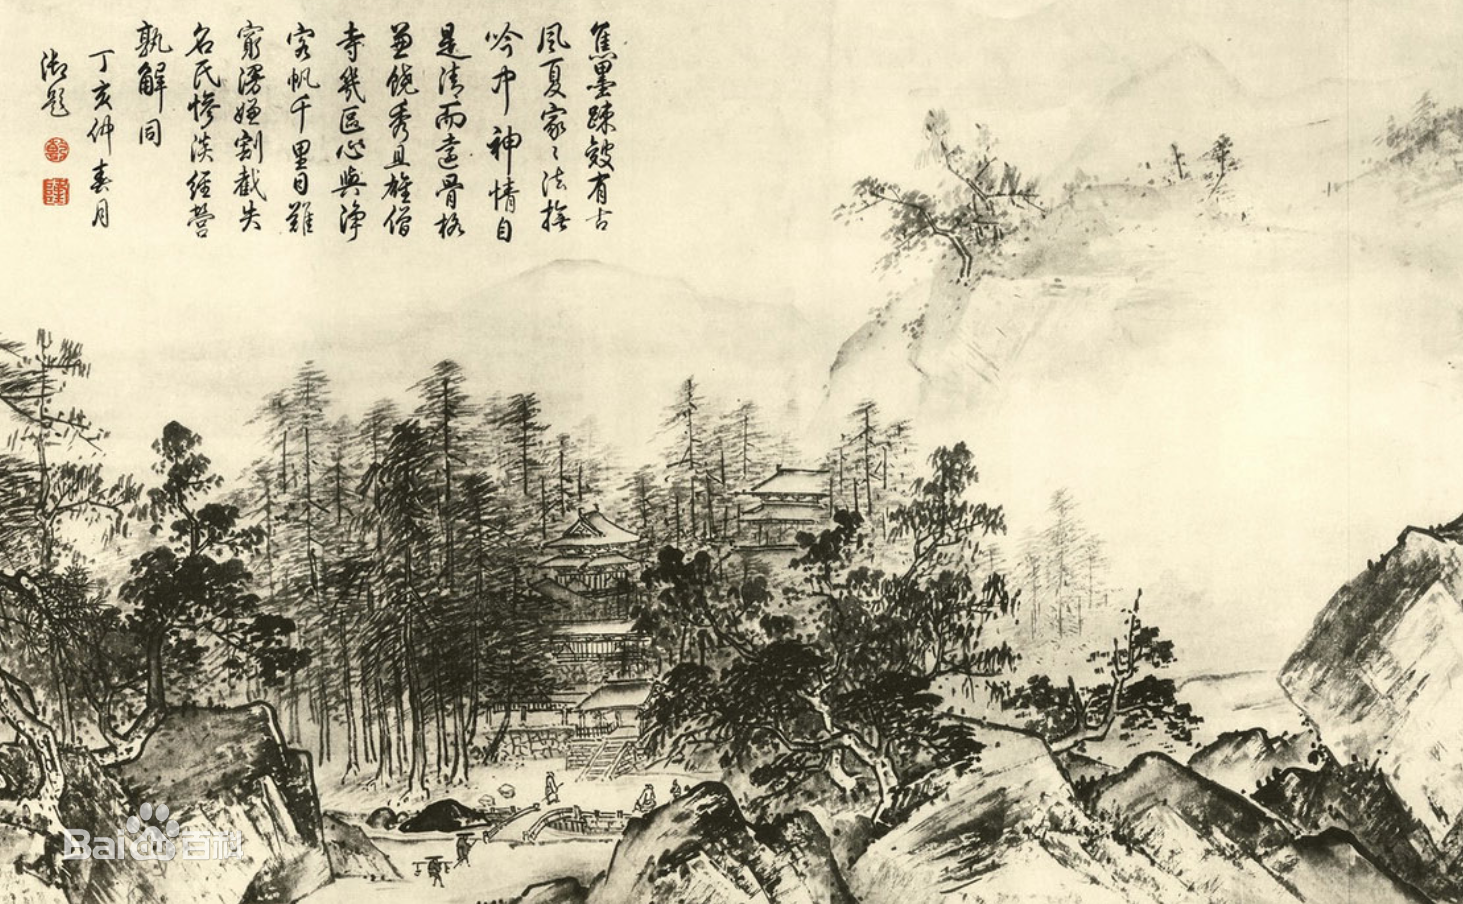hill: (640, 744, 1415, 904), (1267, 475, 1463, 876), (13, 693, 384, 904)
house: (510, 502, 685, 760), (733, 452, 845, 560)
man: (421, 853, 457, 893), (453, 831, 475, 868), (629, 782, 657, 810), (543, 771, 563, 806), (667, 774, 685, 803)
tree: (1, 329, 292, 825), (664, 441, 999, 845), (272, 376, 495, 800), (1023, 591, 1213, 756), (854, 118, 1004, 274), (1009, 502, 1113, 648), (664, 362, 744, 532), (501, 386, 591, 513), (830, 386, 907, 503), (1167, 134, 1245, 206)
